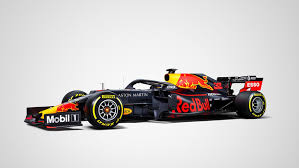FormulaOneCar: (21, 64, 273, 135)
